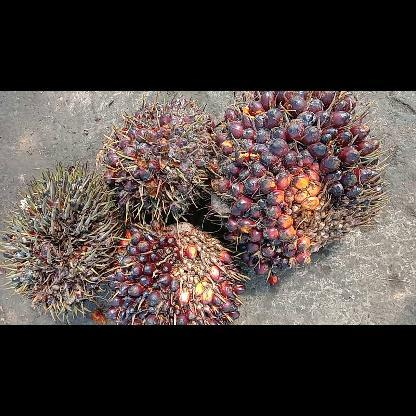Kurang masak: (100, 96, 216, 224), (104, 224, 246, 324)
TBS abnormal: (0, 160, 124, 324)
TBS masak: (210, 90, 388, 284)
